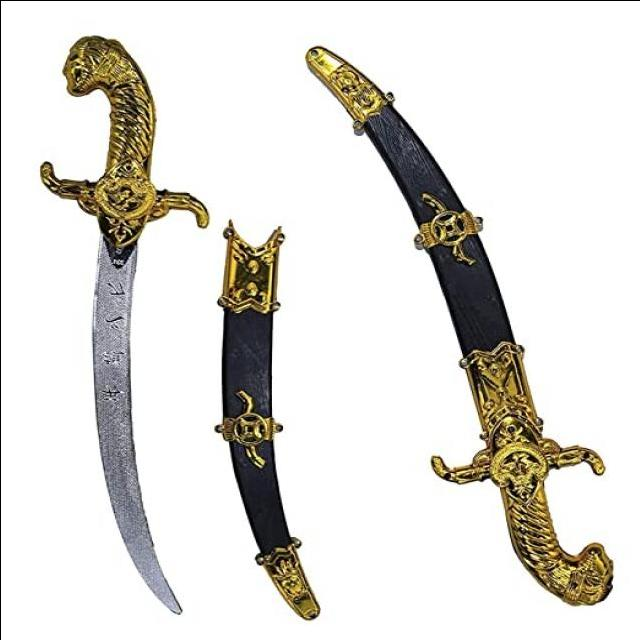cutlass: (315, 1, 618, 614), (23, 22, 209, 623)
scabbard: (214, 200, 334, 625)
